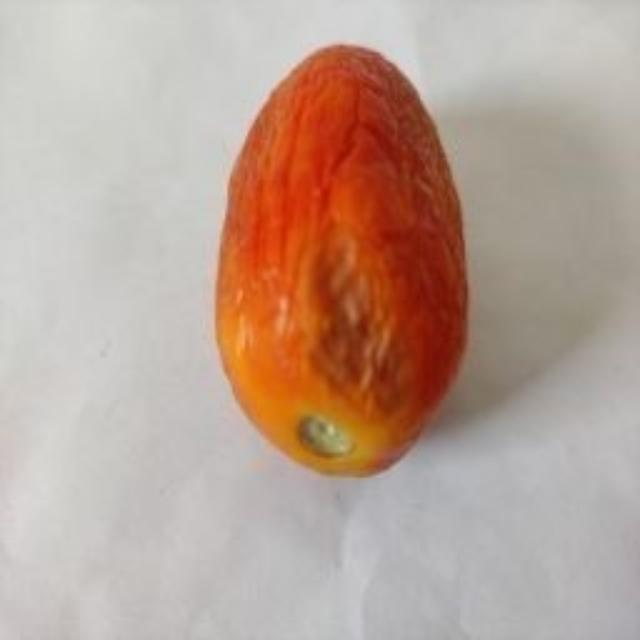defect: (213, 38, 478, 478)
